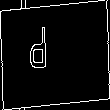P_S: (45, 29, 65, 81)
